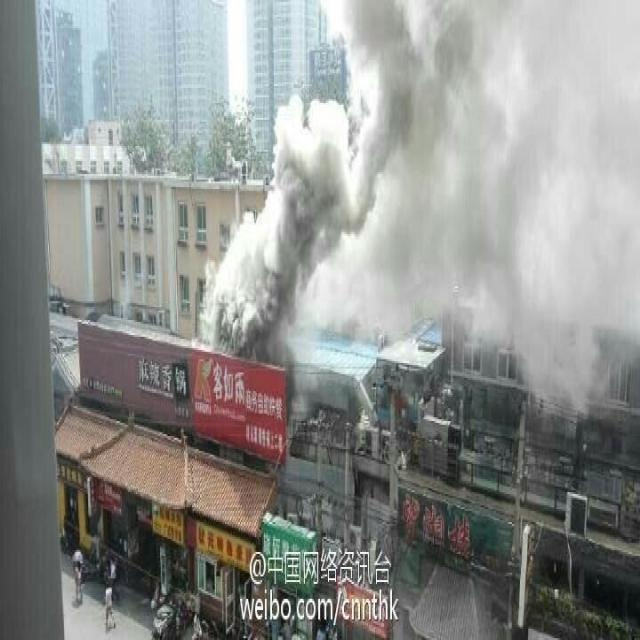Smoke: (198, 1, 640, 428)
